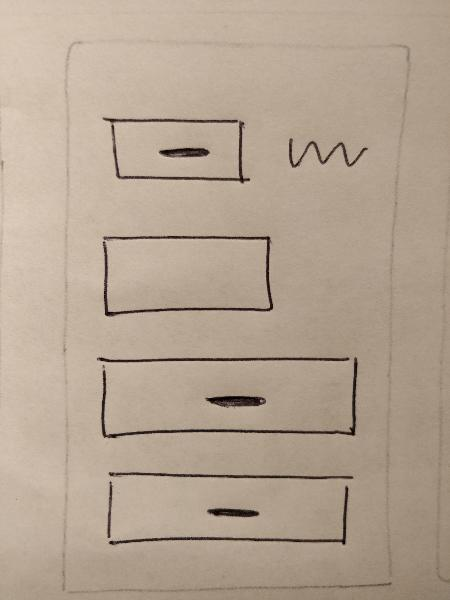button: (90, 350, 365, 448), (95, 464, 364, 552), (99, 110, 262, 194)
text: (284, 129, 369, 182)
text_input: (97, 227, 278, 322)
